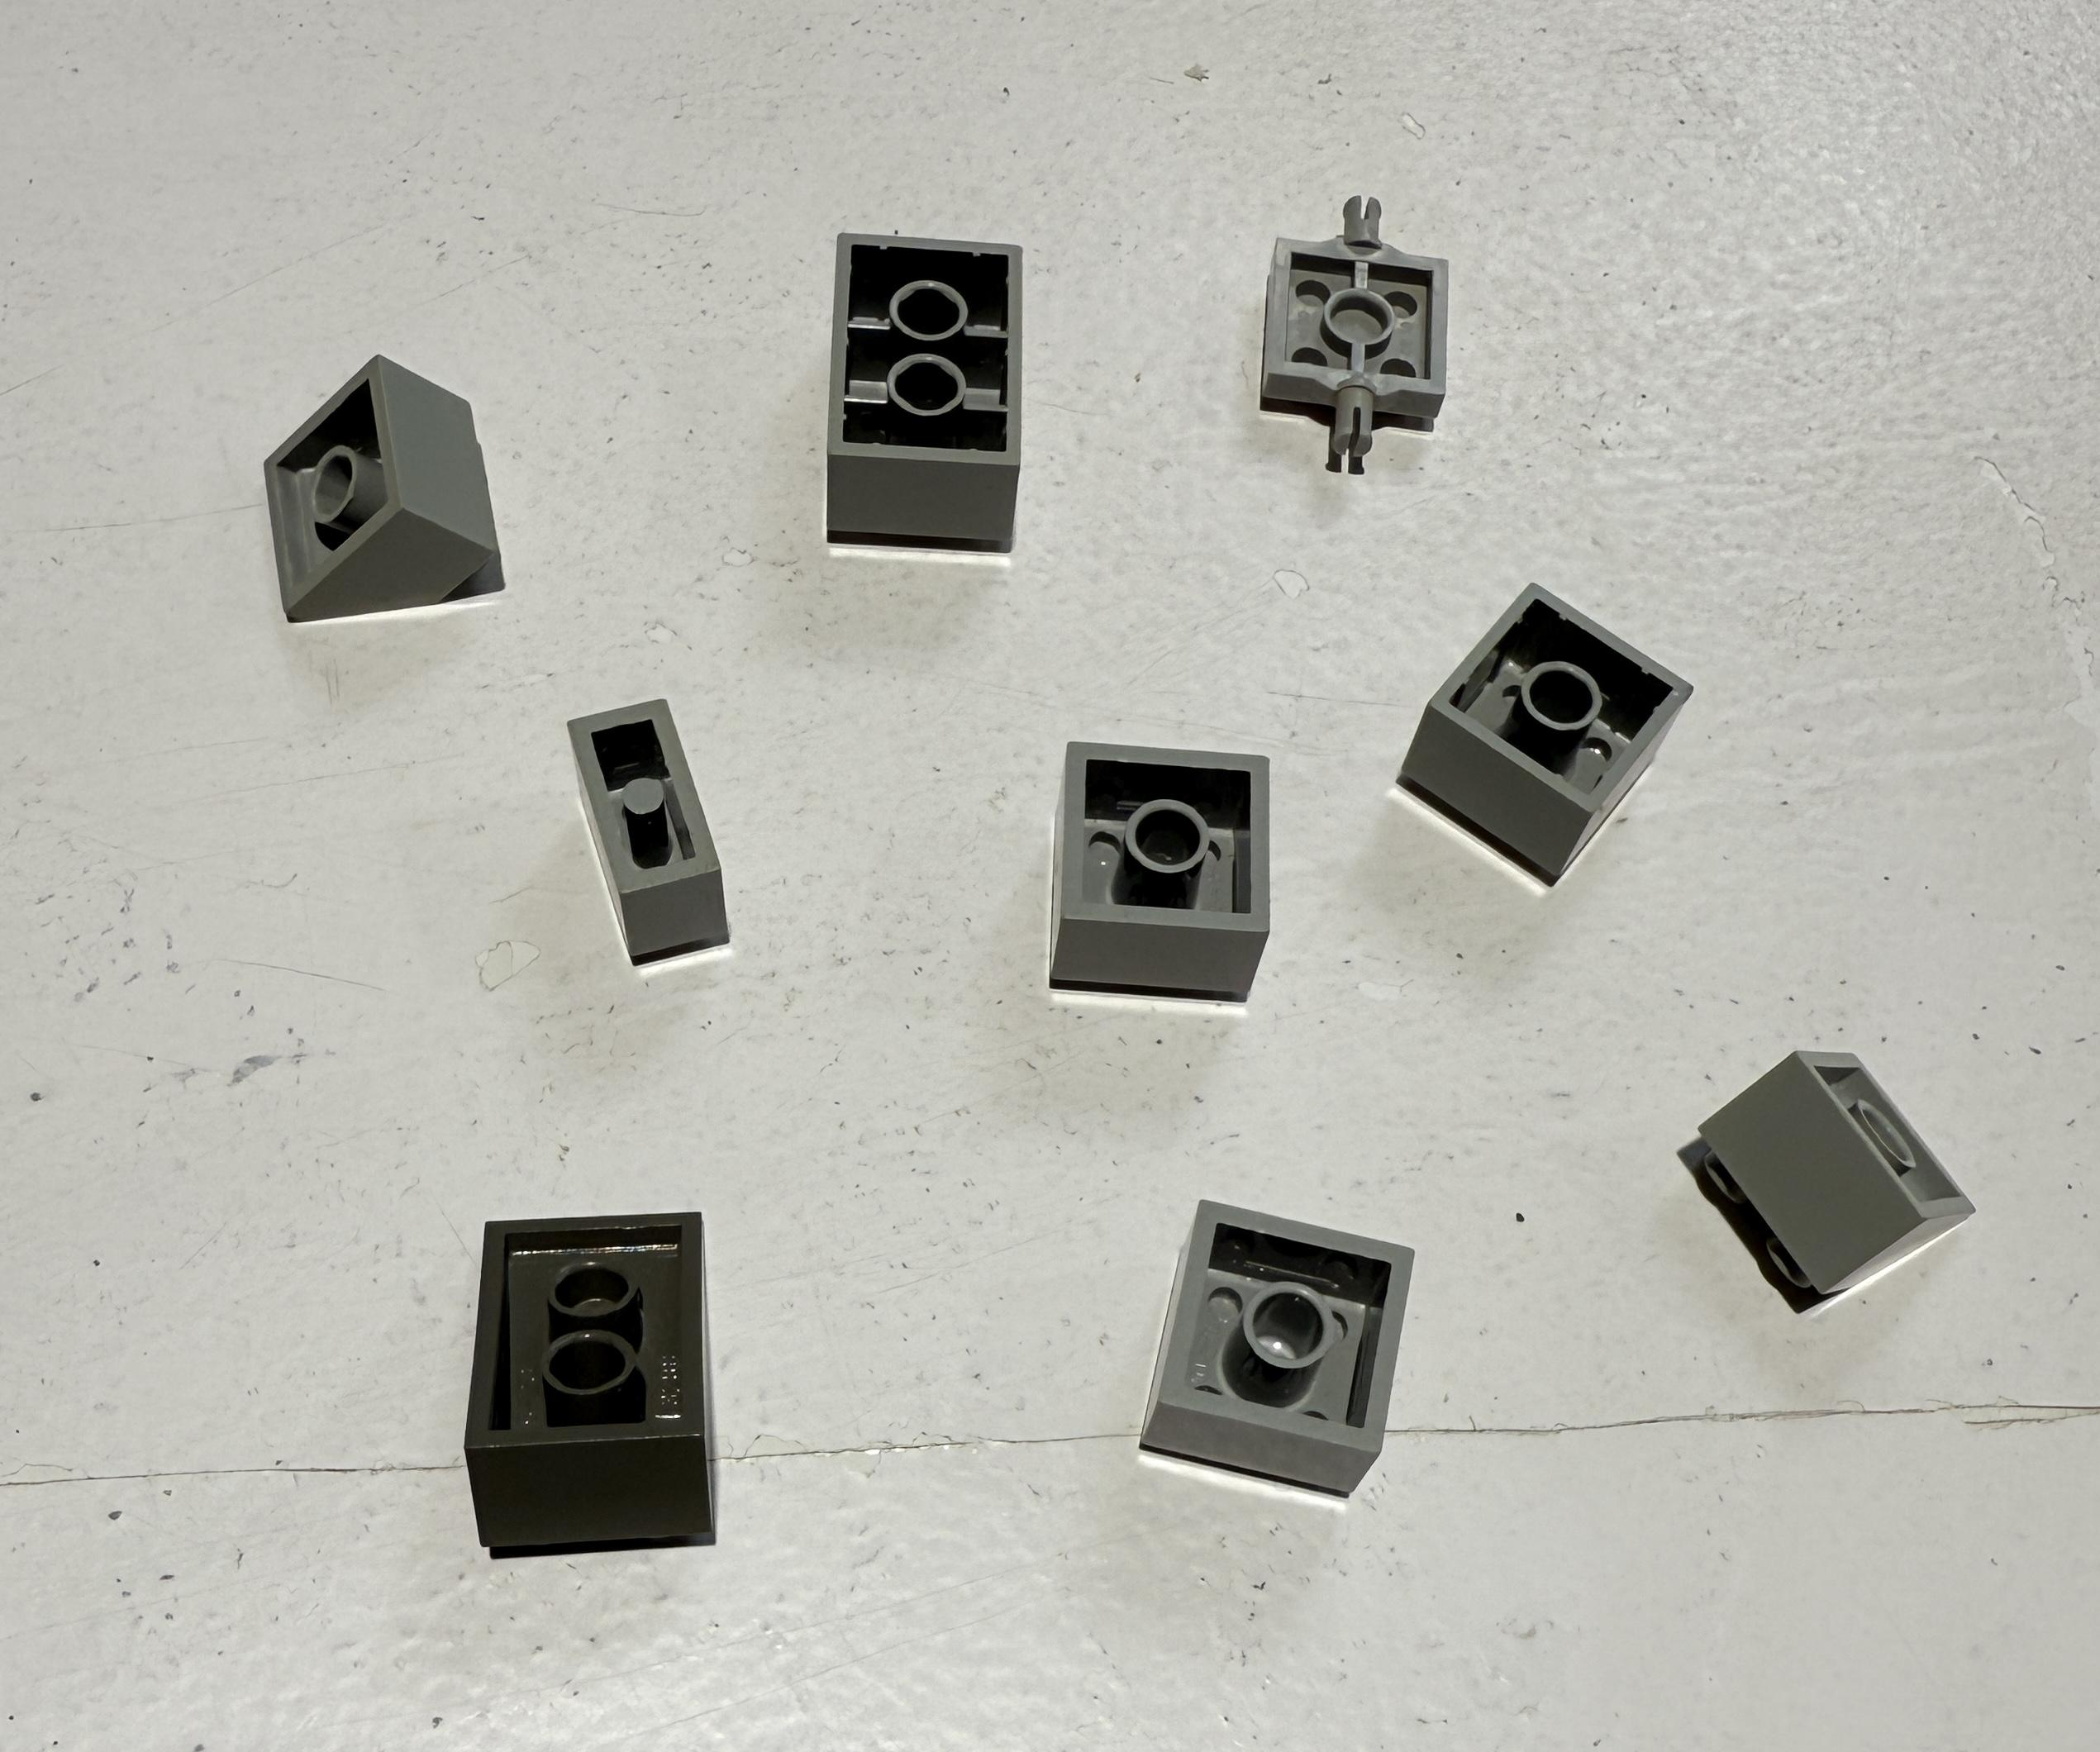Special_02: (237, 326, 544, 652), (1680, 1037, 1980, 1334)
brick_1x2: (548, 668, 766, 1011)
brick_2x2: (1380, 565, 1711, 917), (1130, 1177, 1425, 1529), (1019, 720, 1298, 1046)
brick_2x3: (788, 174, 1062, 614)
